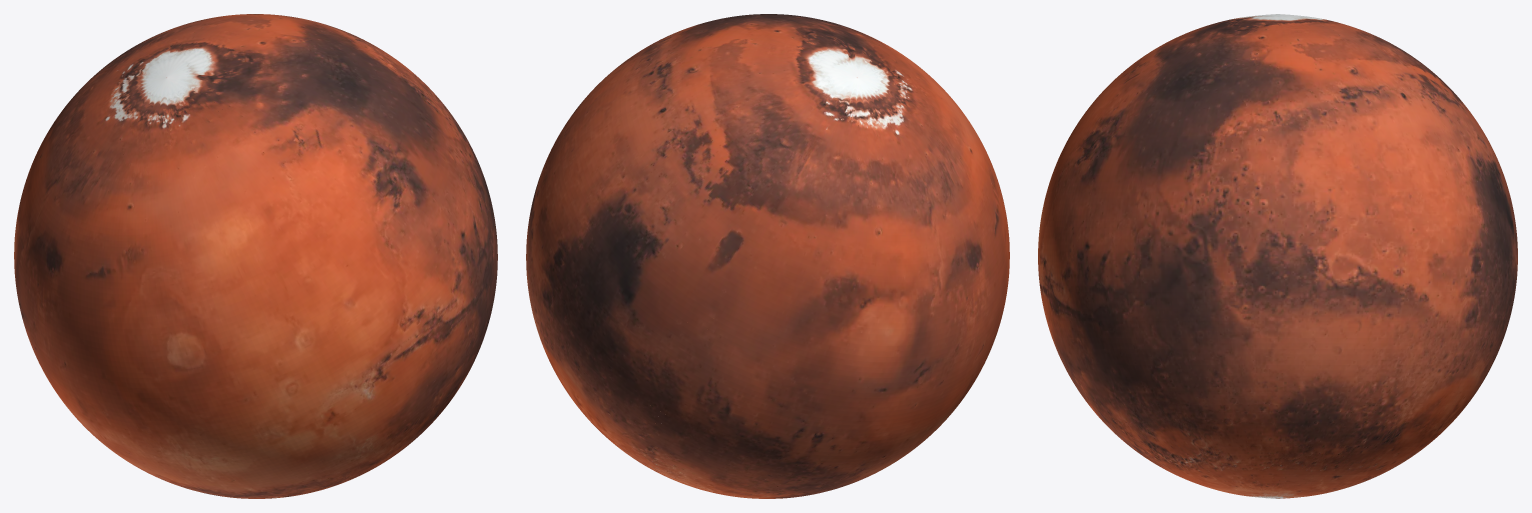
3 renders of one model, left to right at view 1: azimuth 30°, elevation 25°; view 2: azimuth 150°, elevation 25°; view 3: azimuth 270°, elevation 25°, orthographic.
Parts seen in each view (by area): view 1: 4. mars; view 2: 4. mars; view 3: 4. mars.
Boxes of the visible parts, left/top/right/bottom form: 4. mars: left=14, top=14, right=497, bottom=498; 4. mars: left=526, top=14, right=1009, bottom=498; 4. mars: left=1038, top=14, right=1517, bottom=498.
Size of the model in its own units: 2.77 by 2.78 by 2.76.
1 material, 1 textured.
